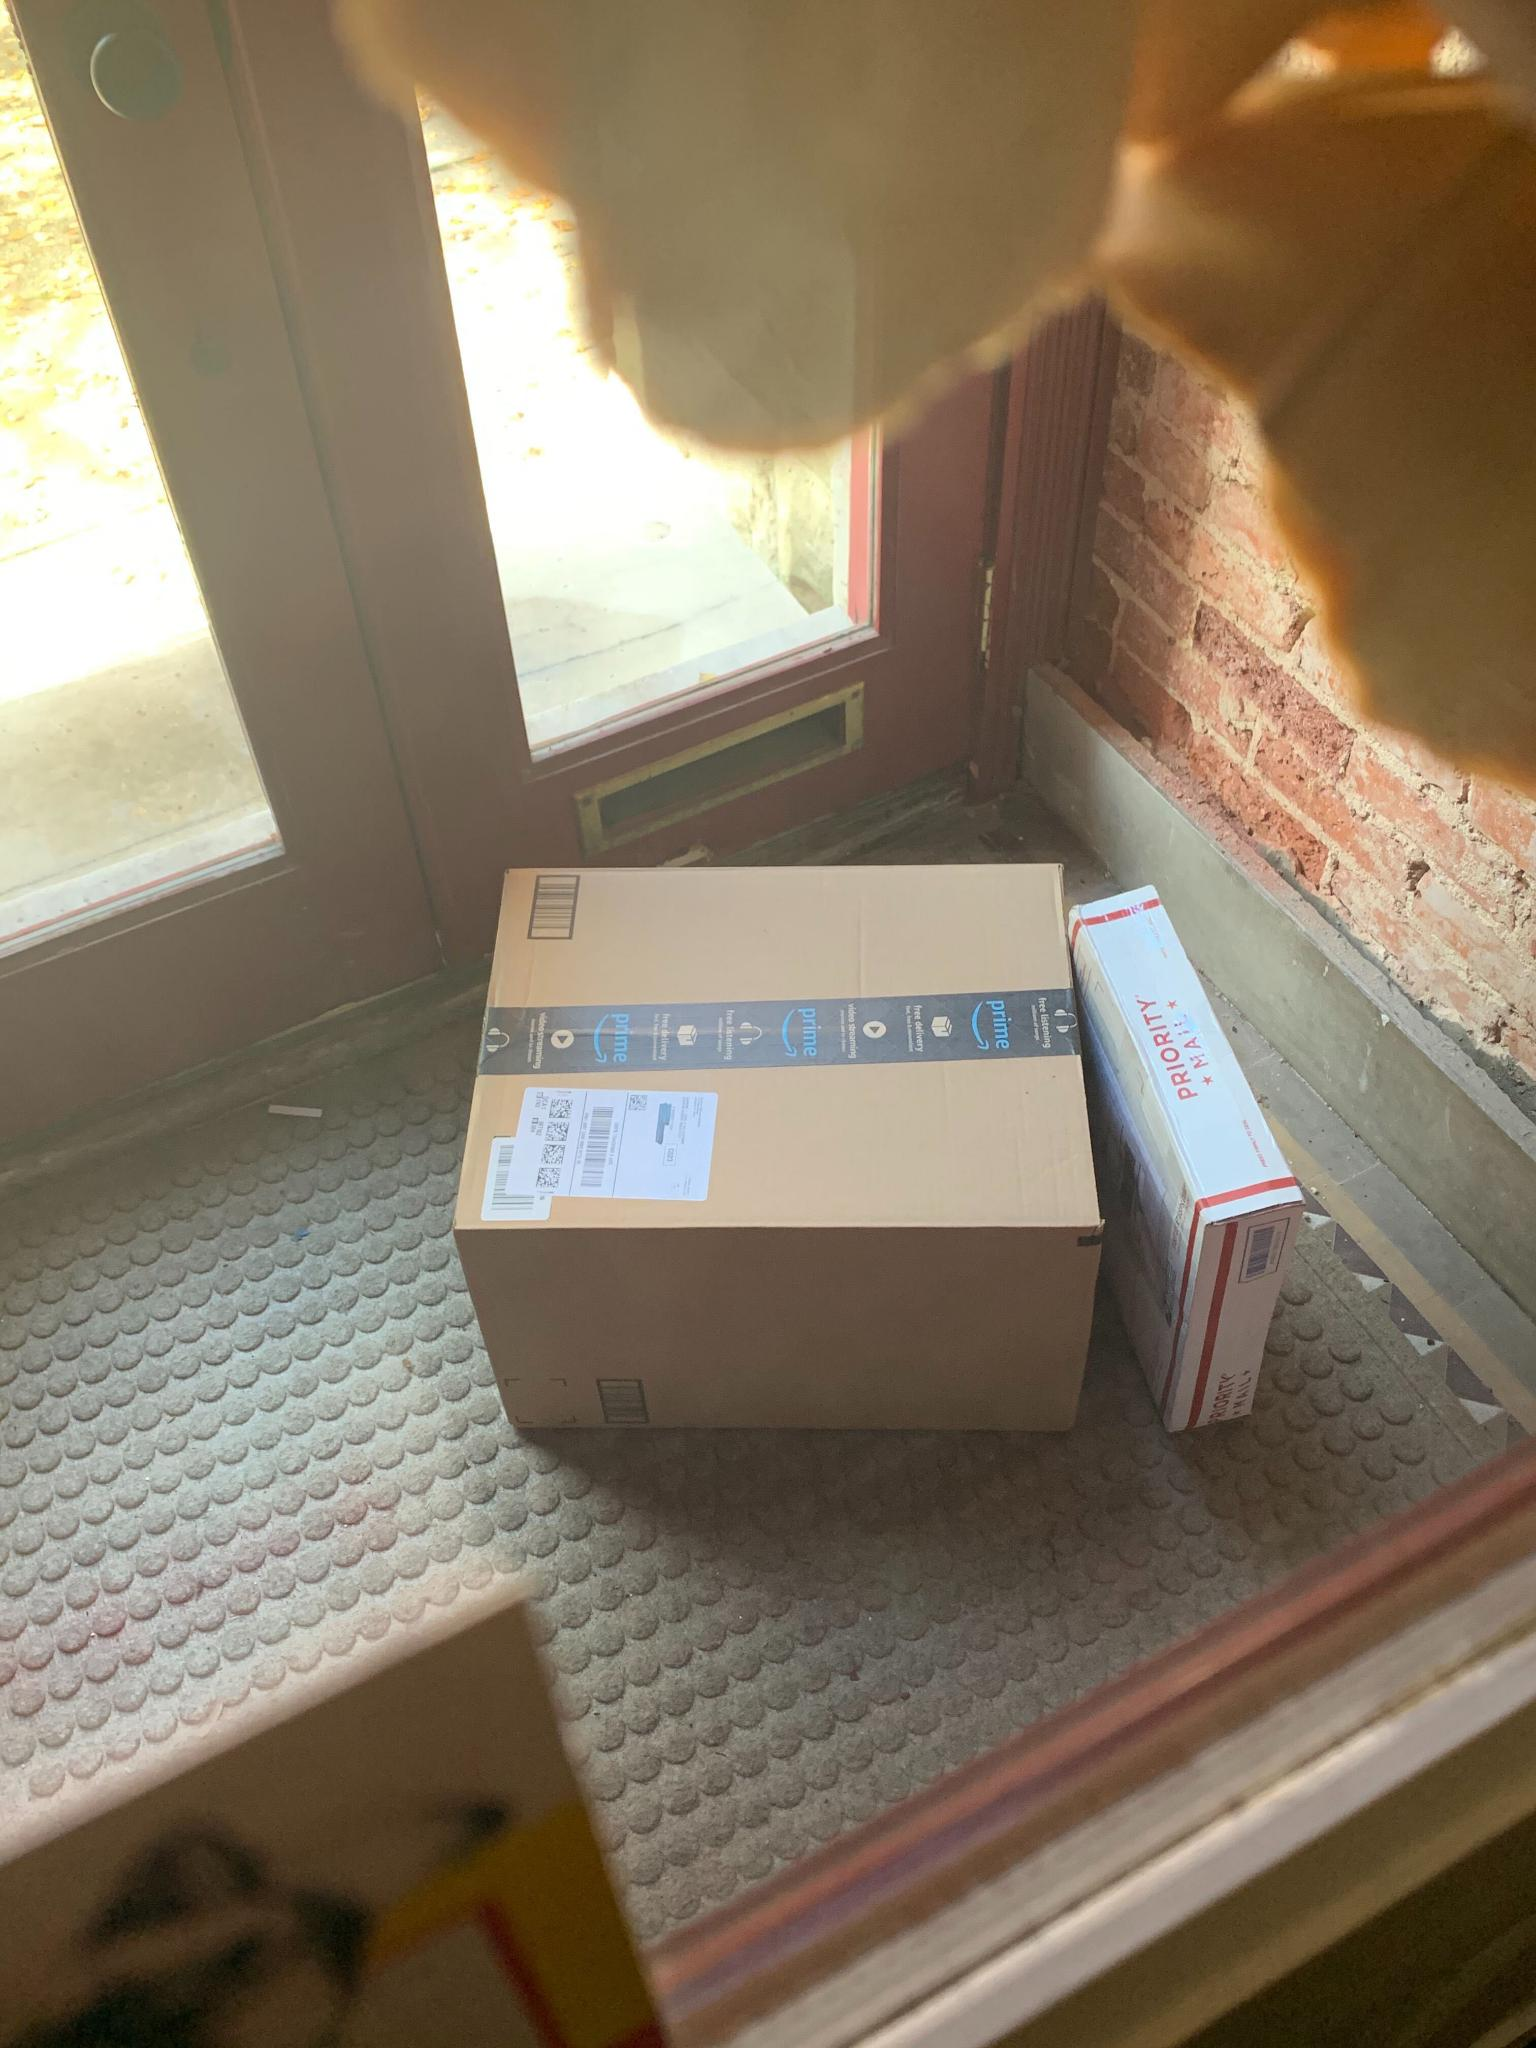package: (447, 863, 1104, 1434), (1075, 882, 1302, 1432)
